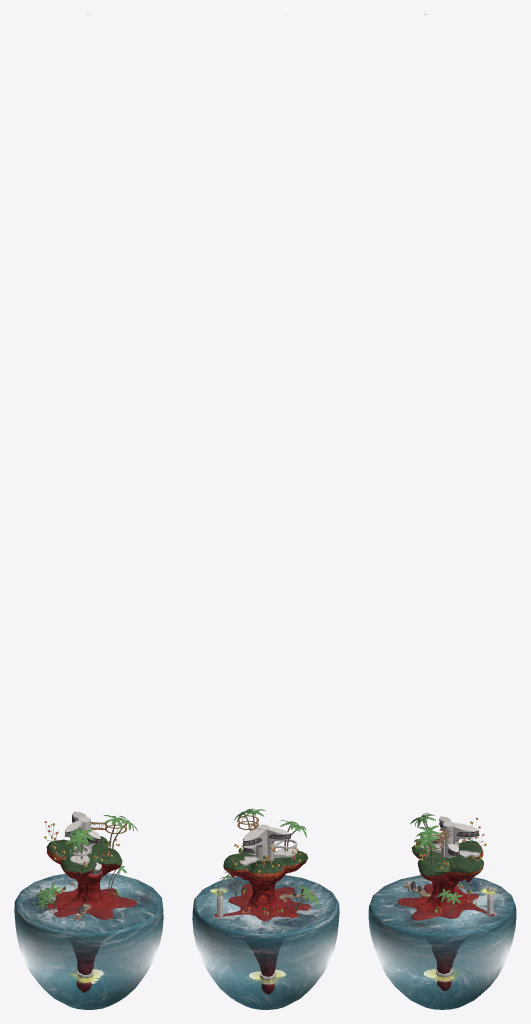
File: gorillaz_plastic_beach_floating_island.glb
The picture shows the model from 3 angles, left to right: view 1: azimuth 30°, elevation 25°; view 2: azimuth 150°, elevation 25°; view 3: azimuth 270°, elevation 25°; orthographic projection.
Visible parts, largest first — view 1: Water, landmassLowpolly:Group34330; view 2: Water, landmassLowpolly:Group34330, BigBackRoom; view 3: Water, landmassLowpolly:Group34330.
Boxes of the visible parts, box(x1,y1,x2,y2) form: Water: box(14, 873, 163, 1009); landmassLowpolly:Group34330: box(46, 836, 137, 992); Water: box(192, 875, 339, 1009); landmassLowpolly:Group34330: box(214, 850, 310, 994); BigBackRoom: box(243, 828, 264, 861); Water: box(368, 875, 516, 1009); landmassLowpolly:Group34330: box(397, 840, 494, 990).
Bounding box in the file's own units: 27.38 × 201 × 27.38.
24 materials, 24 textured.
